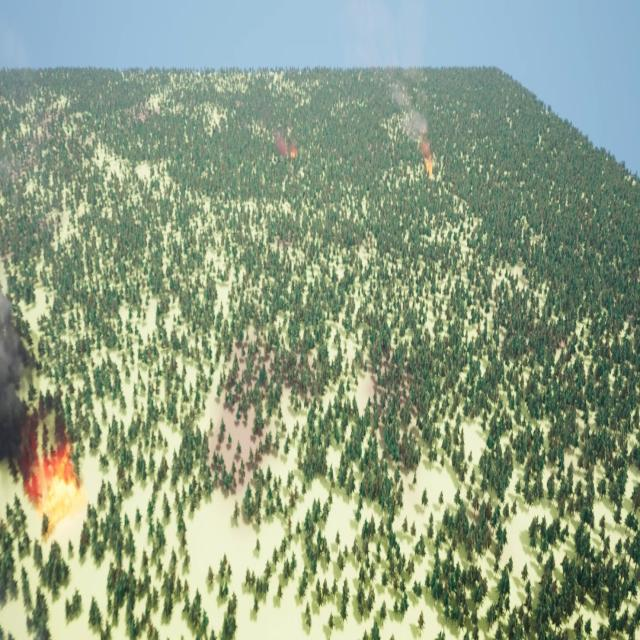fire: (24, 457, 83, 535), (425, 159, 436, 181)
smoke: (350, 0, 432, 156), (0, 284, 74, 449), (276, 130, 299, 163)
